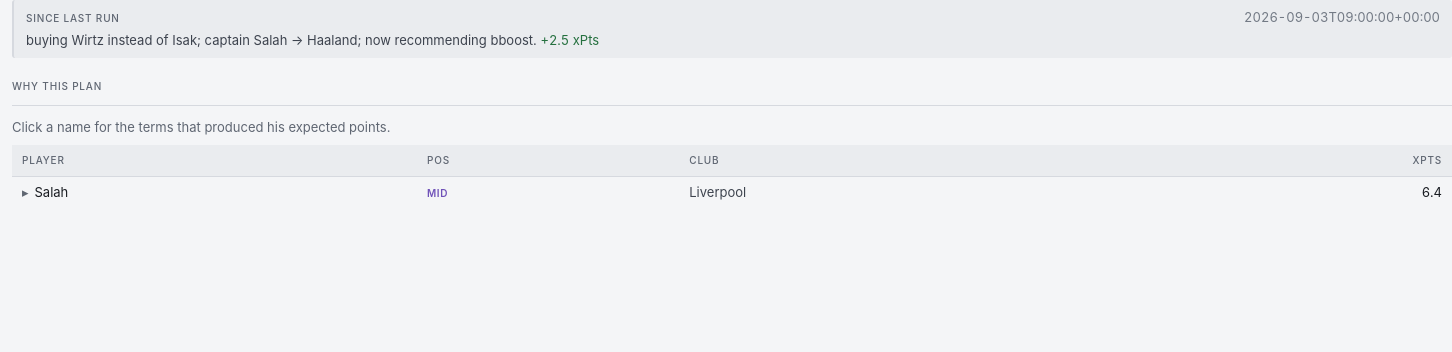
Test: WhyPanel › expands a player into his additive terms
This screenshot has width=1452, height=352.
Click the button "▸ Salah" at (45, 193), box left=22, top=183, right=68, bottom=202
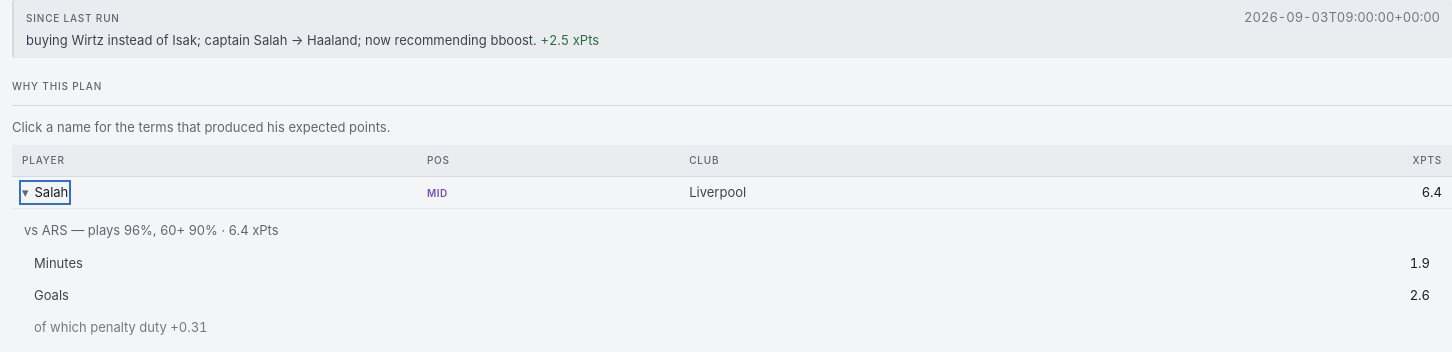
Now the text "Goals" is shown, box left=24, top=280, right=916, bottom=312
Now the text "2.6" is shown, box left=916, top=280, right=1440, bottom=312
Now the text "vs ARS — plays 96%, 60+ 90% · 6.4 xPts" is shown, box left=24, top=222, right=279, bottom=238
